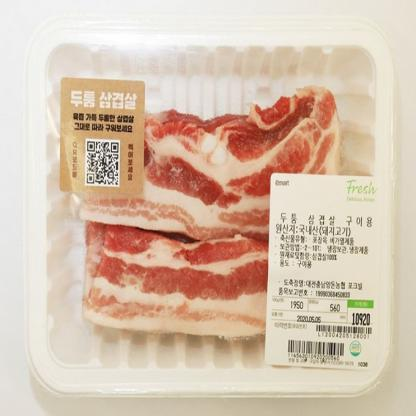pork: (55, 81, 269, 346)
